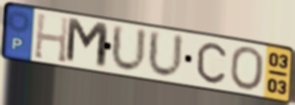C: (195, 41, 228, 86)
H: (32, 11, 71, 65)
M: (64, 16, 111, 72)
O: (228, 45, 266, 93)
U: (109, 22, 149, 75), (146, 28, 186, 81)
